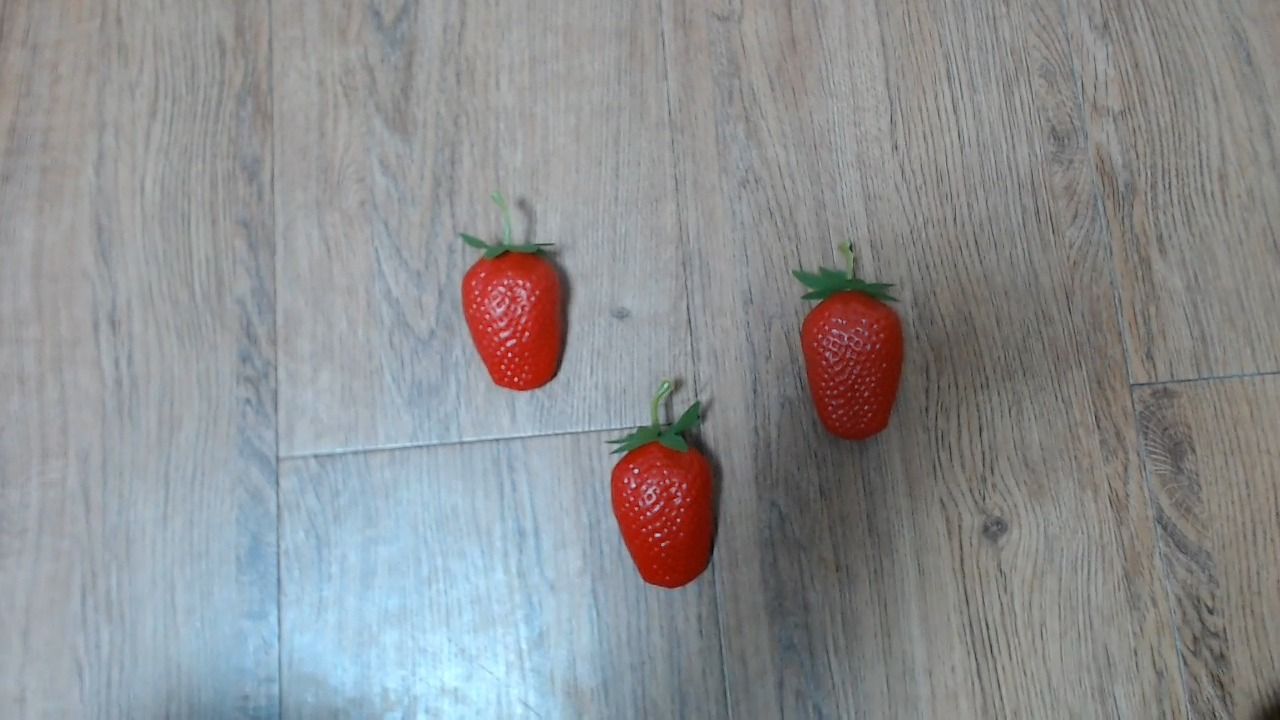strawberry: (609, 417, 716, 589), (796, 277, 906, 442), (458, 231, 566, 392)
